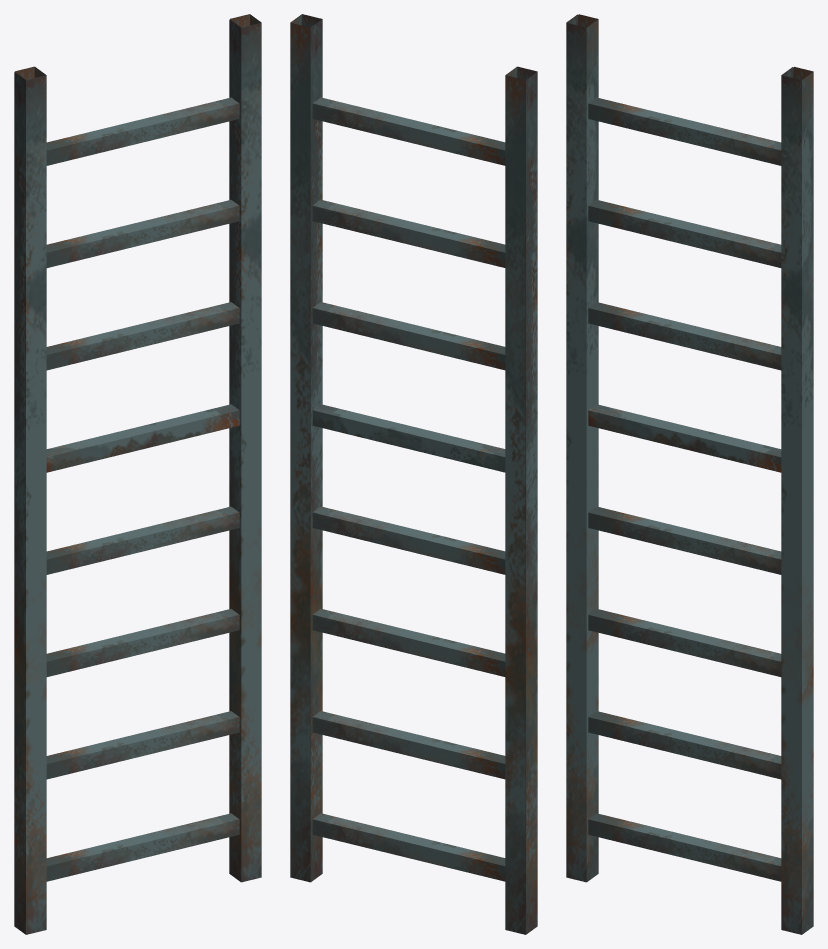
The model's file is EscadaPequena 1.fbx.
The picture shows the model from 3 angles, left to right: view 1: azimuth 30°, elevation 25°; view 2: azimuth 150°, elevation 25°; view 3: azimuth 330°, elevation 25°; orthographic projection.
Parts seen in each view (by area): view 1: EscadaPequena; view 2: EscadaPequena; view 3: EscadaPequena.
Part boxes in pixels (box(x1,y1,x2,y2)): EscadaPequena: box(14, 14, 261, 934); EscadaPequena: box(290, 14, 537, 934); EscadaPequena: box(566, 14, 813, 934).
Bounding box in the file's own units: 126 × 438 × 11.
